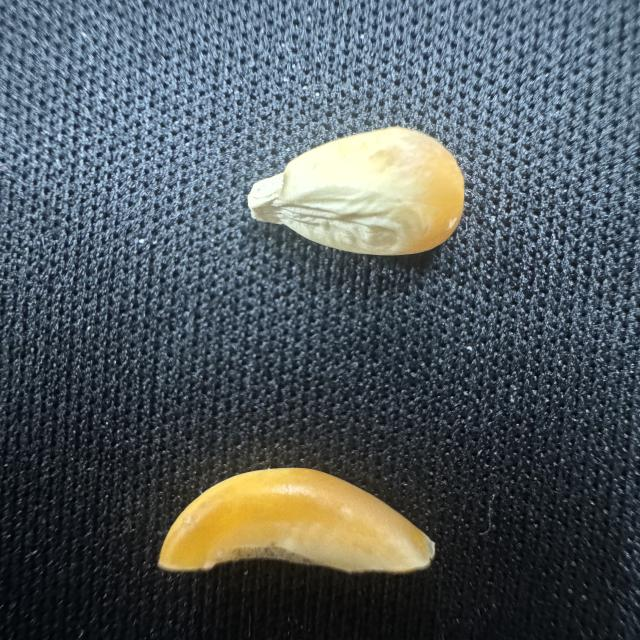Bad-Seed: (151, 459, 441, 598), (225, 121, 475, 277)
